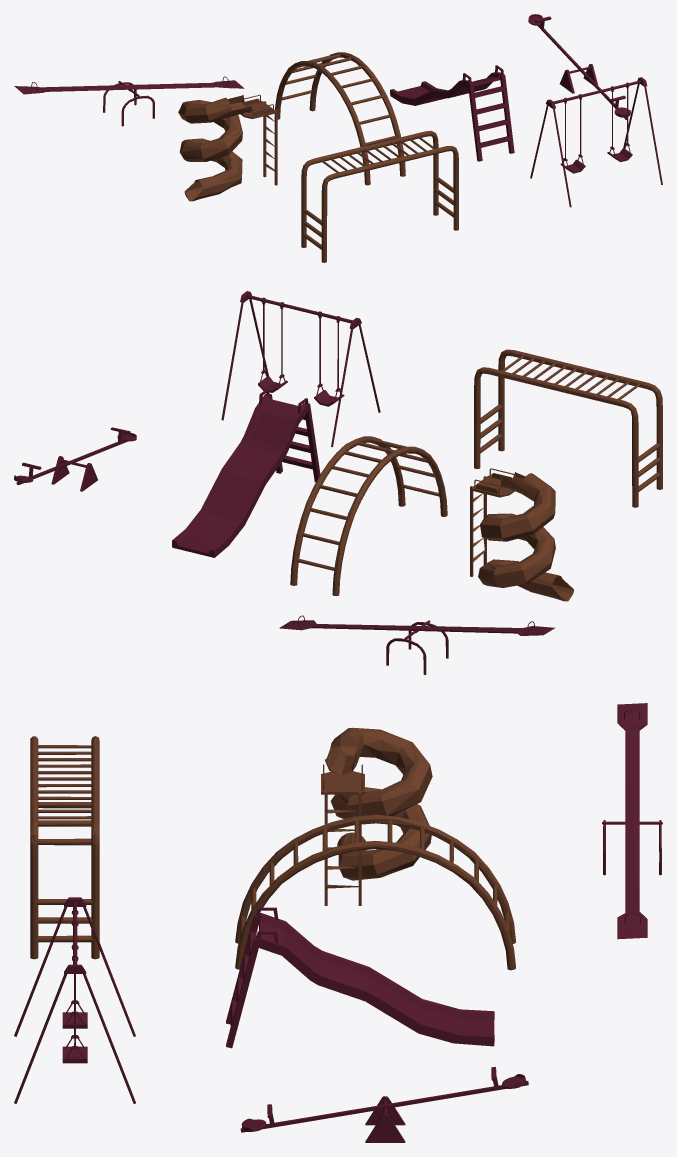
The model's file is playground.glb.
3 views of the same model, one above another, from view 1: azimuth 30°, elevation 25°; view 2: azimuth 150°, elevation 25°; view 3: azimuth 270°, elevation 25° (orthographic). The views are drawn at different scales.
Visible parts, largest first — view 1: Circle_Material.008_0, Circle.001__0; view 2: Circle_Material.008_0, Circle.001__0; view 3: Circle_Material.008_0, Circle.001__0.
Part boxes in pixels (box(x1,y1,x2,y2)): Circle_Material.008_0: box(178, 52, 458, 262); Circle.001__0: box(14, 14, 662, 207); Circle_Material.008_0: box(290, 349, 662, 601); Circle.001__0: box(14, 291, 554, 674); Circle_Material.008_0: box(30, 727, 515, 970); Circle.001__0: box(14, 703, 662, 1142).
Size of the model in its own units: 8.38 by 1.66 by 6.37.
Materials: 2 (2 with a texture image).
